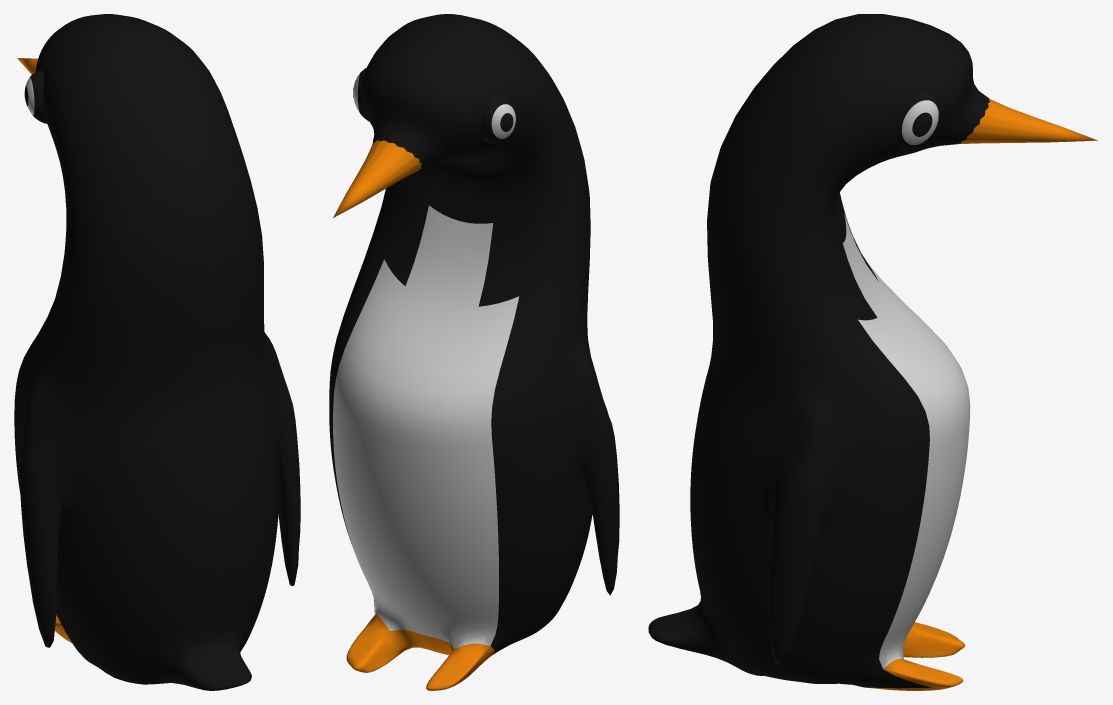
Rendered from penguin.fbx.
3 renders of one model, left to right at view 1: azimuth 30°, elevation 25°; view 2: azimuth 150°, elevation 25°; view 3: azimuth 270°, elevation 25°, orthographic. The views are drawn at different scales.
Parts seen in each view (by area): view 1: Sphere, Sphere.001; view 2: Sphere, Sphere.001; view 3: Sphere, Sphere.002.
Part boxes in pixels (box(x1,y1,x2,y2)): Sphere: box(14, 14, 300, 690); Sphere.001: box(24, 70, 47, 123); Sphere: box(329, 14, 619, 690); Sphere.001: box(481, 94, 515, 143); Sphere: box(648, 14, 1097, 690); Sphere.002: box(898, 91, 940, 148).
Size of the model in its own units: 5.49 by 12.1 by 7.67.
